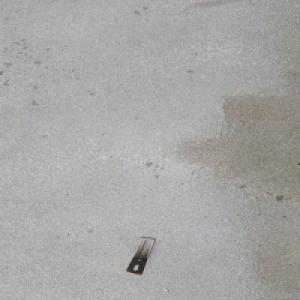MetalPart: (124, 235, 156, 275)
